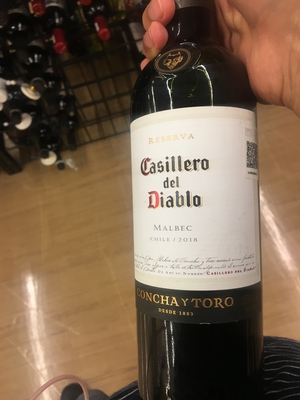casillero del diablo malbec: (124, 1, 279, 400)
